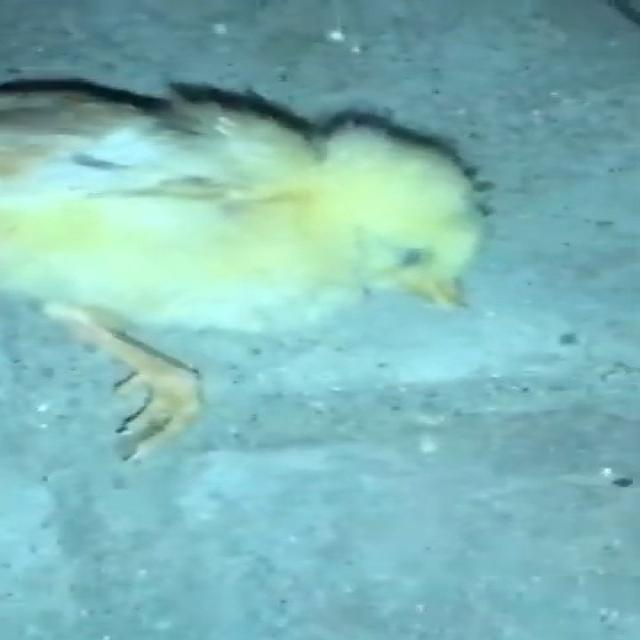abnormal chicken: (0, 44, 484, 448)
